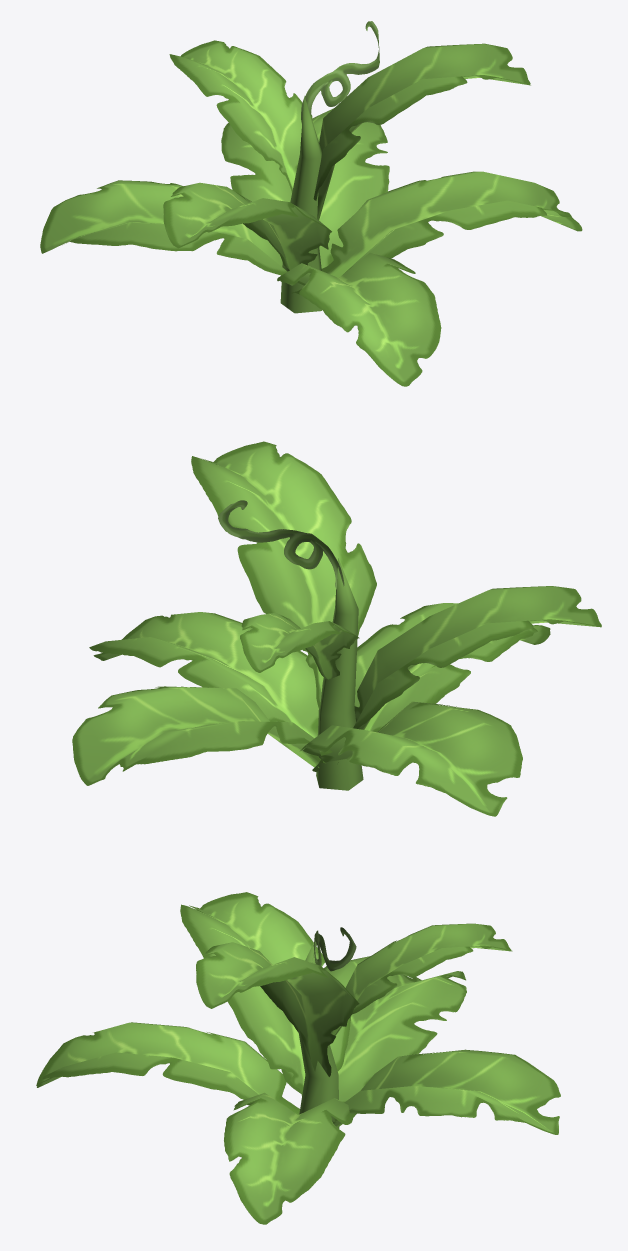
Rendered from Ctn_groundPlant_03_v02.FBX.
3 views of the same model, one above another, from view 1: azimuth 30°, elevation 25°; view 2: azimuth 150°, elevation 25°; view 3: azimuth 270°, elevation 25° (orthographic). The views are drawn at different scales.
Parts seen in each view (by area): view 1: Ctn_groundPlant_03_v02; view 2: Ctn_groundPlant_03_v02; view 3: Ctn_groundPlant_03_v02.
Boxes of the visible parts, bbox=[...] form: Ctn_groundPlant_03_v02: bbox=[40, 21, 582, 386]; Ctn_groundPlant_03_v02: bbox=[72, 441, 601, 816]; Ctn_groundPlant_03_v02: bbox=[36, 892, 560, 1224].
Bounding box in the file's own units: 104 × 49.55 × 107.
